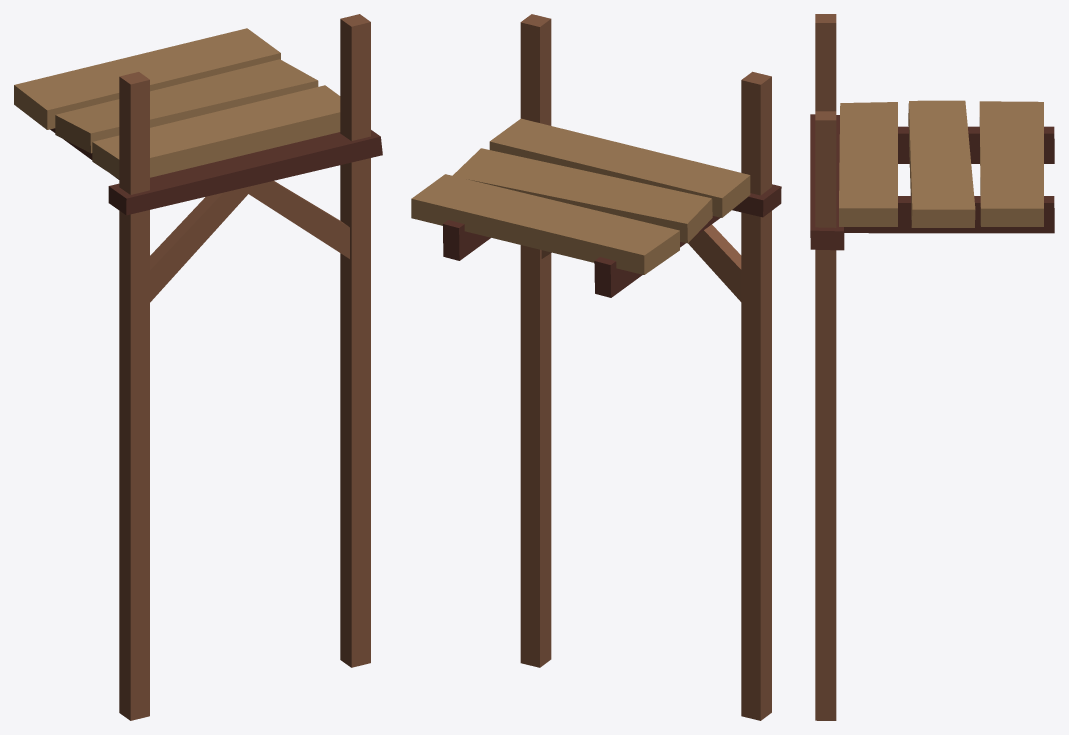
File: Dock_02.fbx
3 renders of one model, left to right at view 1: azimuth 30°, elevation 25°; view 2: azimuth 150°, elevation 25°; view 3: azimuth 270°, elevation 25°, orthographic. The views are drawn at different scales.
Visible parts, largest first — view 1: Dock_02; view 2: Dock_02; view 3: Dock_02.
Boxes of the visible parts, bbox=[...] form: Dock_02: bbox=[14, 14, 382, 720]; Dock_02: bbox=[411, 14, 781, 720]; Dock_02: bbox=[810, 14, 1054, 720].
Bounding box in the file's own units: 226 × 539 × 199.
